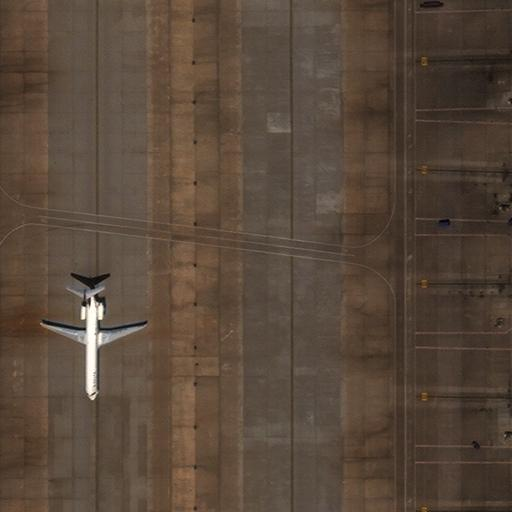Medium Civil Transport: (39, 284, 148, 404)
